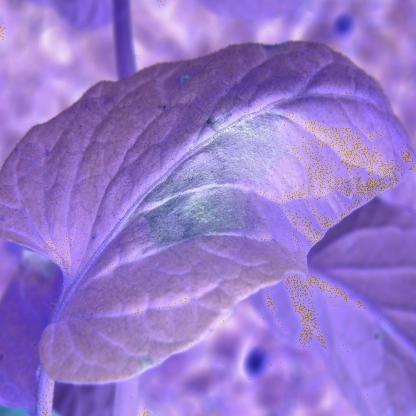Tomato leaf mosaic virus: (2, 35, 411, 388)
